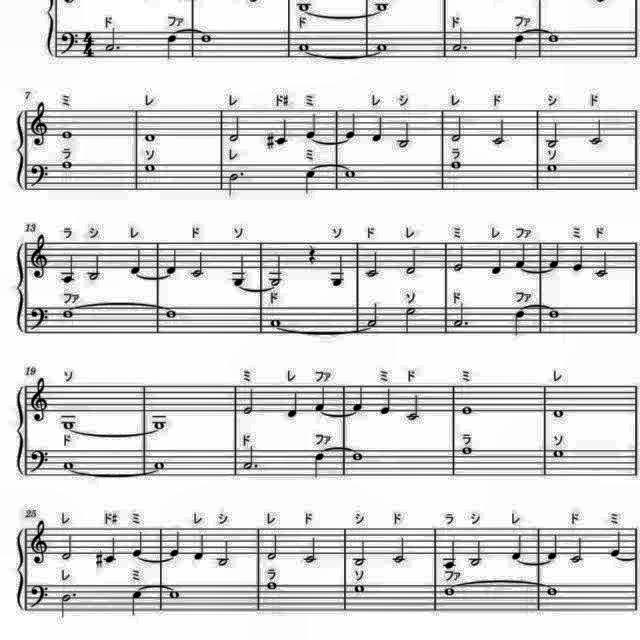Bass-clef: (28, 446, 52, 476), (28, 582, 52, 610), (28, 162, 52, 190), (59, 27, 81, 57), (26, 302, 48, 332)
Diez: (94, 549, 106, 571), (266, 132, 278, 152)
Full-note: (148, 412, 168, 432), (441, 582, 459, 600), (550, 406, 568, 422), (163, 306, 181, 322), (60, 416, 78, 432), (165, 586, 182, 602), (197, 32, 216, 46), (59, 156, 75, 172), (550, 447, 568, 461), (141, 131, 159, 145), (458, 444, 476, 458), (342, 168, 360, 182), (542, 585, 560, 599), (264, 580, 282, 594), (151, 458, 169, 472), (372, 0, 392, 12), (58, 308, 78, 320), (61, 458, 78, 472), (458, 404, 474, 418), (352, 583, 368, 597), (546, 32, 562, 46), (60, 129, 76, 143), (350, 449, 366, 463), (546, 307, 562, 321), (295, 40, 311, 54), (296, 0, 314, 12), (374, 40, 391, 52), (449, 160, 465, 172), (268, 316, 284, 328), (142, 164, 158, 176), (544, 162, 558, 174)
Half-dot: (226, 166, 246, 202), (59, 588, 79, 620), (242, 443, 262, 472), (452, 26, 471, 56), (450, 300, 470, 328), (104, 26, 122, 54)
Half-note: (266, 254, 286, 290), (465, 536, 483, 568), (567, 533, 585, 565), (300, 536, 318, 568), (404, 306, 421, 338), (86, 254, 104, 284), (585, 119, 603, 149), (405, 393, 423, 423), (187, 250, 205, 280), (545, 120, 563, 150), (490, 118, 508, 148), (214, 537, 232, 567), (391, 534, 409, 564), (60, 532, 76, 564), (398, 120, 414, 152), (266, 532, 282, 564), (449, 114, 466, 144), (364, 249, 381, 279), (242, 387, 258, 418), (226, 115, 242, 145), (404, 246, 420, 276), (352, 539, 368, 569), (594, 250, 610, 280), (364, 300, 380, 328), (451, 244, 465, 276)
Quarter-note: (329, 252, 349, 288), (230, 253, 250, 287), (441, 538, 459, 572), (60, 253, 78, 287), (300, 166, 318, 198), (130, 528, 146, 560), (510, 532, 526, 564), (284, 389, 300, 421), (544, 532, 560, 564), (370, 114, 386, 146), (103, 534, 119, 566), (378, 384, 394, 416), (192, 532, 208, 564), (570, 243, 586, 273), (274, 118, 290, 148), (490, 248, 506, 278), (167, 528, 183, 558), (610, 531, 626, 561), (548, 241, 564, 271), (312, 450, 328, 480), (510, 307, 526, 337), (163, 34, 179, 64), (130, 588, 146, 618), (350, 383, 366, 412), (312, 384, 328, 412), (304, 112, 320, 140), (128, 248, 144, 276), (343, 112, 359, 140), (514, 242, 530, 270), (510, 34, 524, 64), (166, 247, 180, 276)
Quarter-rest: (305, 242, 319, 266)
Treble-clef: (28, 99, 52, 150), (26, 234, 50, 284), (26, 373, 50, 422), (28, 518, 52, 566)
